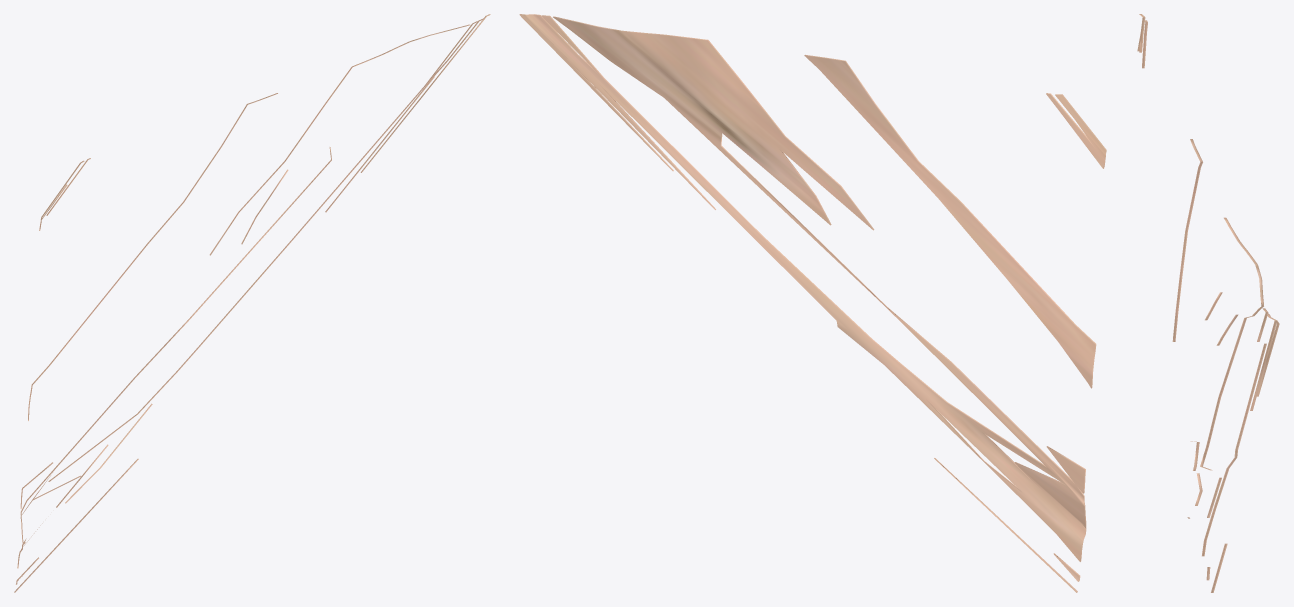
3 renders of one model, left to right at view 1: azimuth 30°, elevation 25°; view 2: azimuth 150°, elevation 25°; view 3: azimuth 270°, elevation 25°, orthographic. The views are drawn at different scales.
Size of the model in its own units: 10.11 by 8.48 by 1.83.
1 material, 1 textured.
